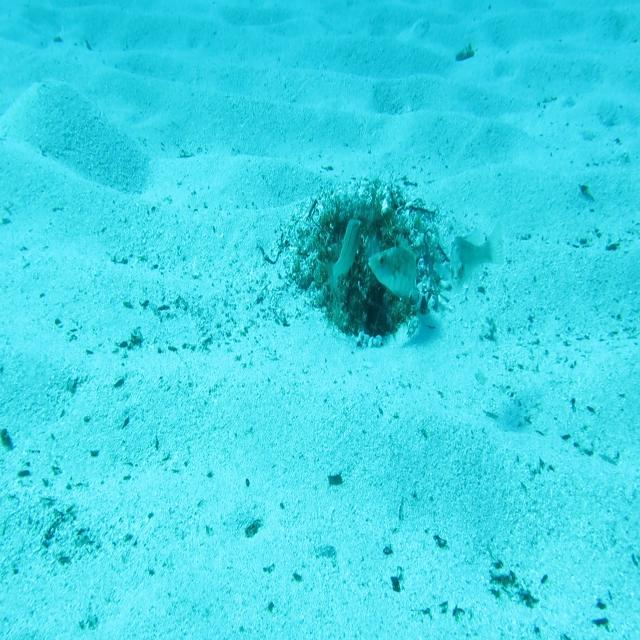BEND: (367, 231, 417, 303)
core_nest: (352, 212, 394, 247)
female: (449, 219, 505, 299), (326, 218, 364, 294)
nest: (285, 174, 458, 353)
vegetation: (454, 40, 475, 64), (242, 516, 264, 536), (328, 469, 343, 489)
